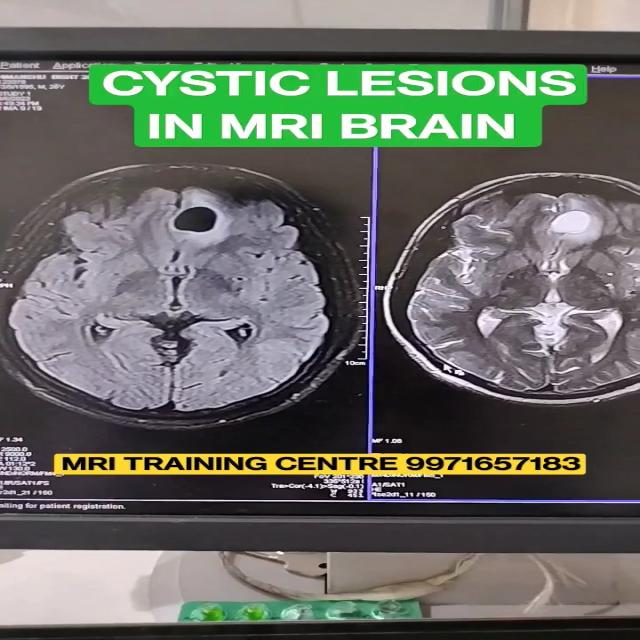tumor: (532, 197, 636, 249), (170, 199, 247, 251)
